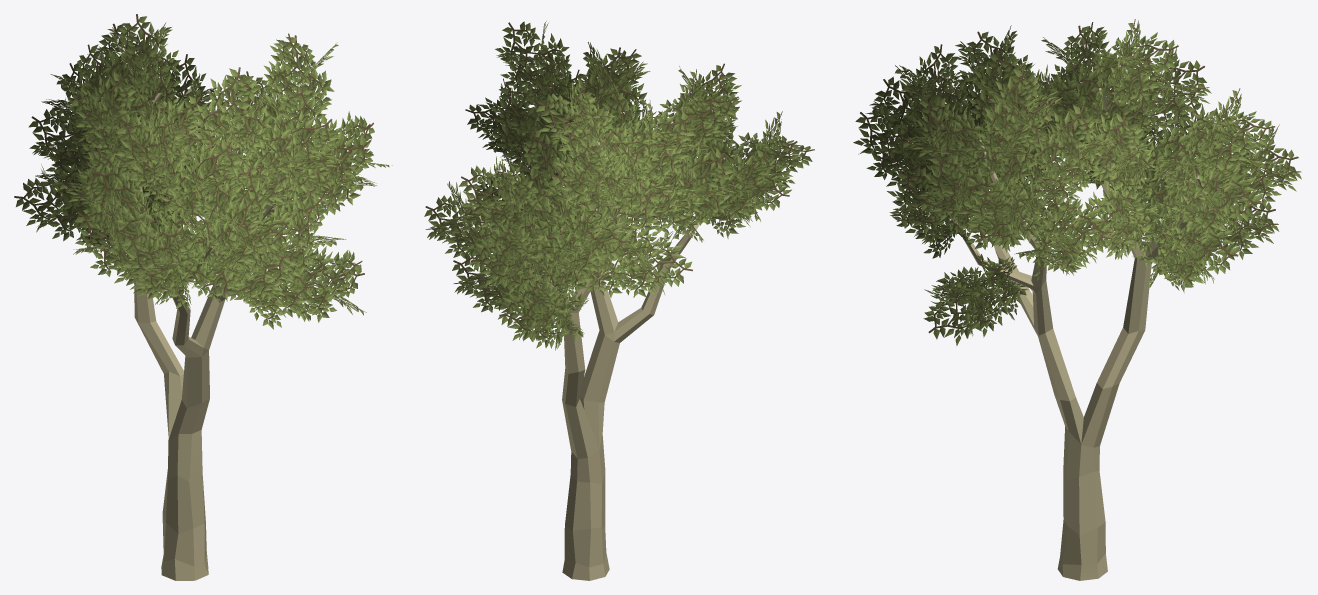
Rendered from polytreegeneric.glb.
3 renders of one model, left to right at view 1: azimuth 30°, elevation 25°; view 2: azimuth 150°, elevation 25°; view 3: azimuth 270°, elevation 25°, orthographic. The views are drawn at different scales.
Parts seen in each view (by area): view 1: PolyTreeGeneric; view 2: PolyTreeGeneric; view 3: PolyTreeGeneric.
Part boxes in pixels (<box>): PolyTreeGeneric: <box>14,14,392,580</box>; PolyTreeGeneric: <box>424,21,814,580</box>; PolyTreeGeneric: <box>853,19,1301,580</box>.
Bounding box in the file's own units: 3.43 × 5.6 × 4.23.
Materials: 3 (3 with a texture image).
